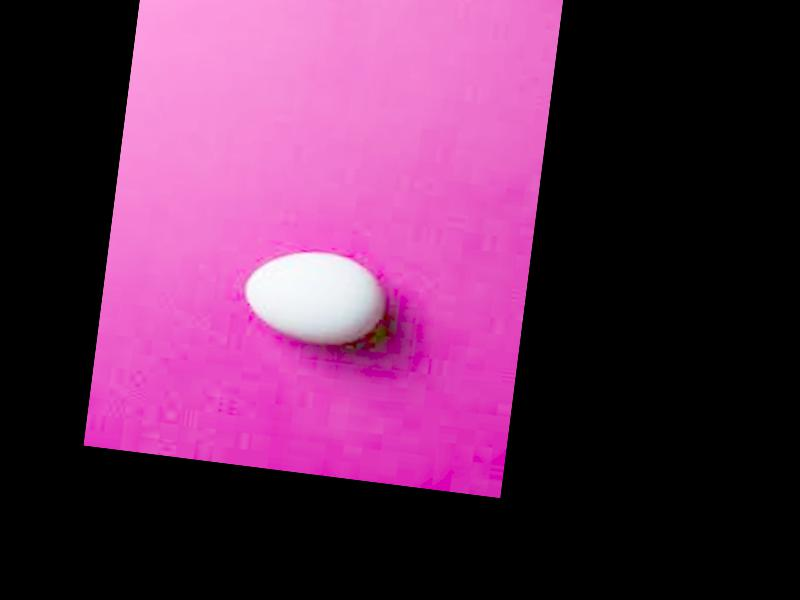Eggs: (240, 243, 388, 349)
